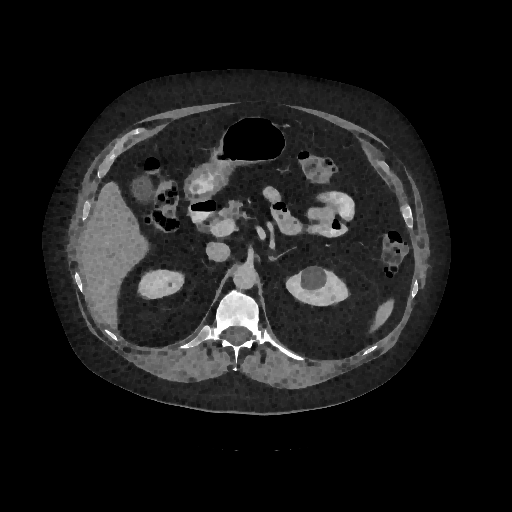Lesion: (298, 263, 330, 293)
